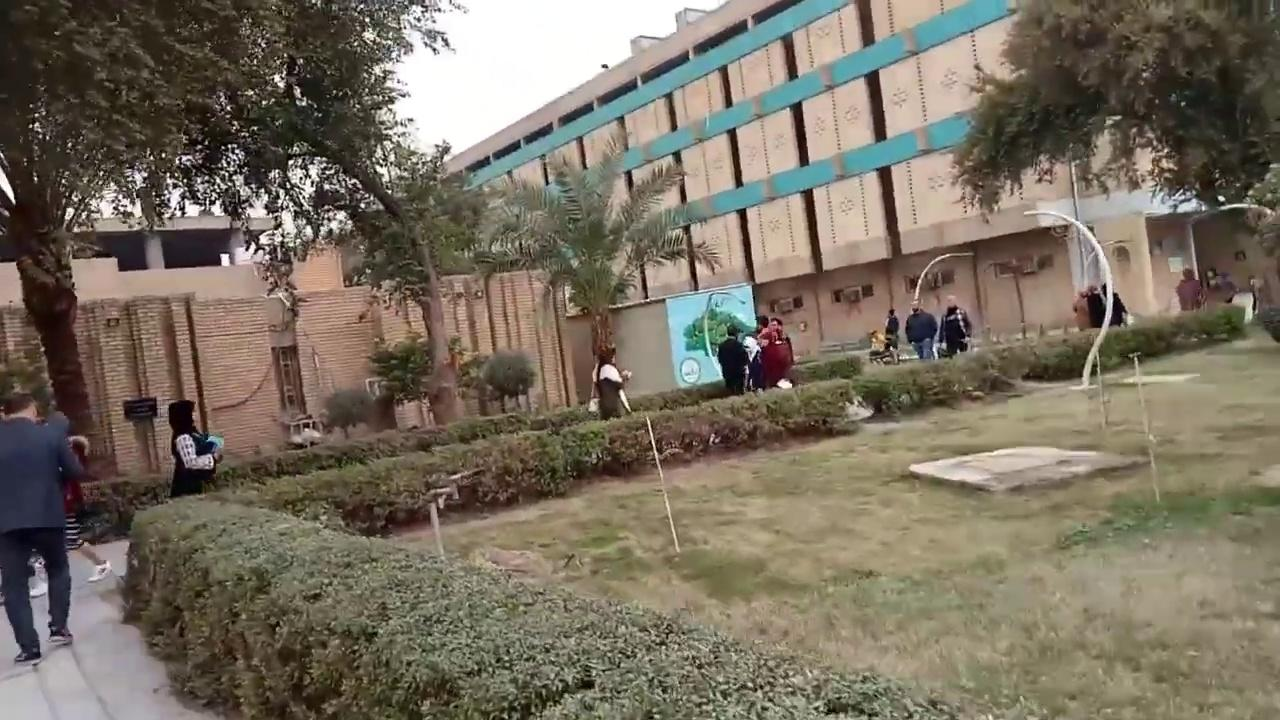person: (0, 391, 88, 666), (27, 433, 112, 595), (167, 399, 224, 498), (591, 346, 632, 421), (905, 302, 937, 360), (938, 304, 967, 358), (1175, 266, 1203, 311), (884, 308, 900, 352), (1248, 274, 1260, 314)
tree: (1, 0, 492, 455), (121, 486, 964, 718), (0, 0, 191, 471), (935, 0, 1279, 223), (468, 133, 721, 412), (335, 138, 500, 426), (365, 333, 432, 428), (478, 346, 536, 414)
